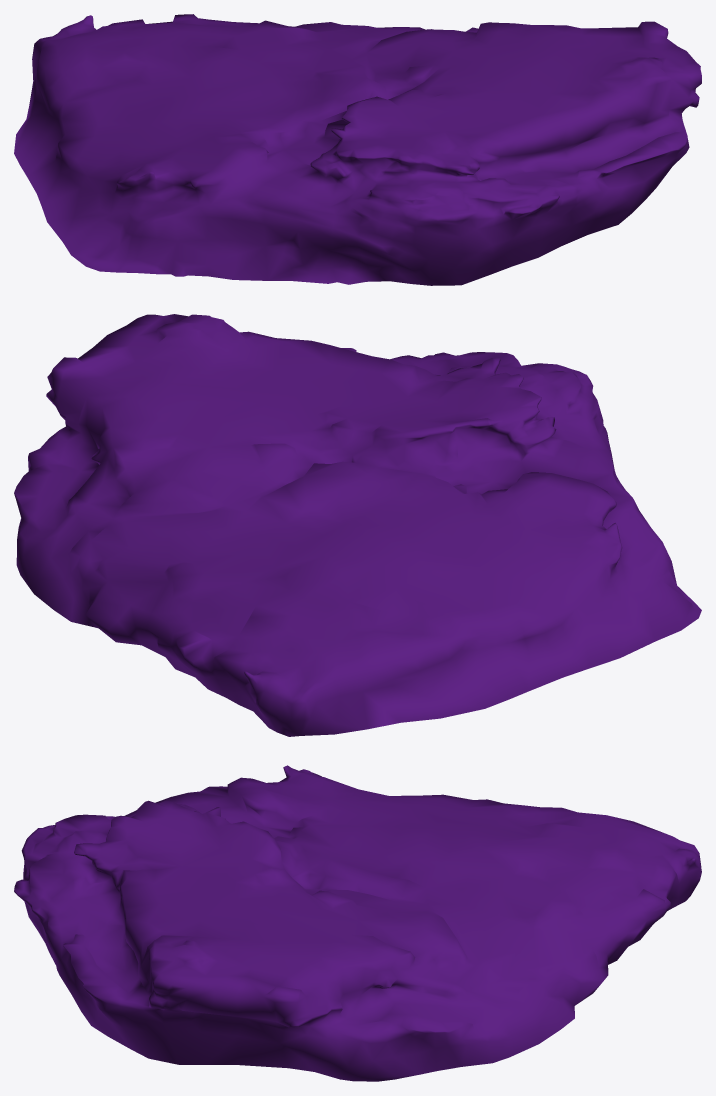
Rendered from MSH_Rocks_Flat_02.FBX.
3 renders of one model, top to bottom at view 1: azimuth 30°, elevation 25°; view 2: azimuth 150°, elevation 25°; view 3: azimuth 270°, elevation 25°, orthographic. The views are drawn at different scales.
Parts seen in each view (by area): view 1: MESH_LOD0; view 2: MESH_LOD0; view 3: MESH_LOD0.
Part boxes in pixels (<box>): MESH_LOD0: <box>14,14,701,285</box>; MESH_LOD0: <box>14,314,701,736</box>; MESH_LOD0: <box>14,765,701,1081</box>.
Size of what is drawn, in the model's own units: 142 by 25.99 by 141.
